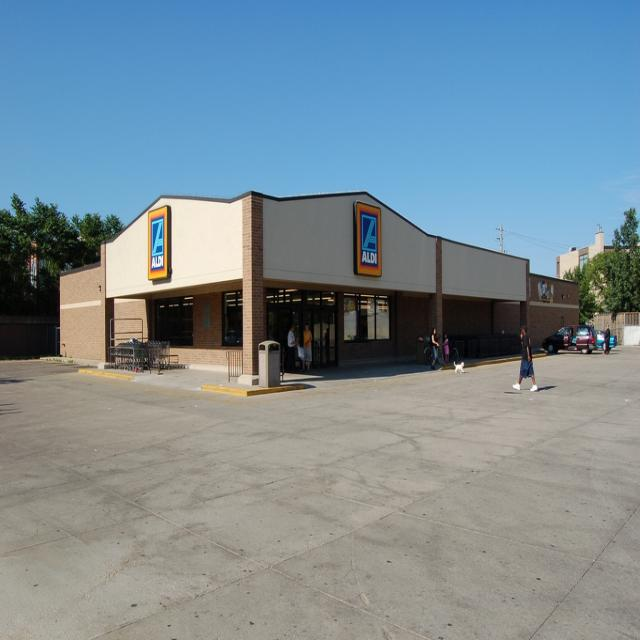aldi: (358, 202, 383, 276), (148, 207, 169, 280)
